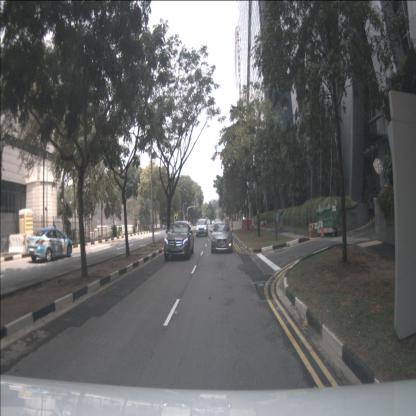human-pedestrian-adult: (276, 208, 280, 234), (135, 218, 138, 231), (138, 218, 140, 232)
movable_object-barrier: (9, 234, 26, 254), (233, 221, 243, 230), (243, 219, 252, 229), (246, 218, 254, 228), (230, 221, 233, 230)
movable_object-trafficcone: (320, 218, 325, 237), (308, 222, 312, 238), (310, 223, 314, 237)
vehicle-car: (26, 228, 73, 261), (164, 221, 194, 260), (211, 223, 233, 252), (196, 218, 208, 236)
